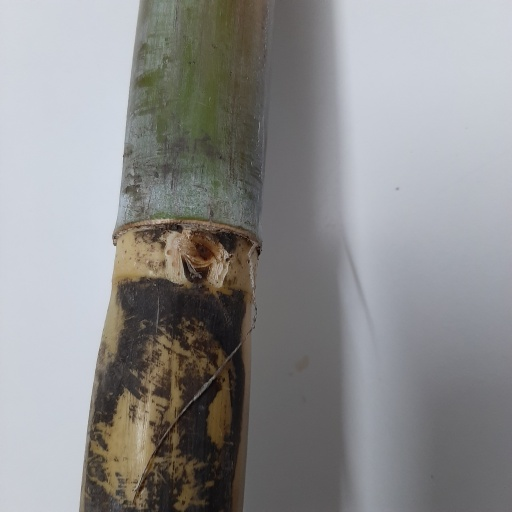Damage_Bud: (181, 231, 218, 280)
